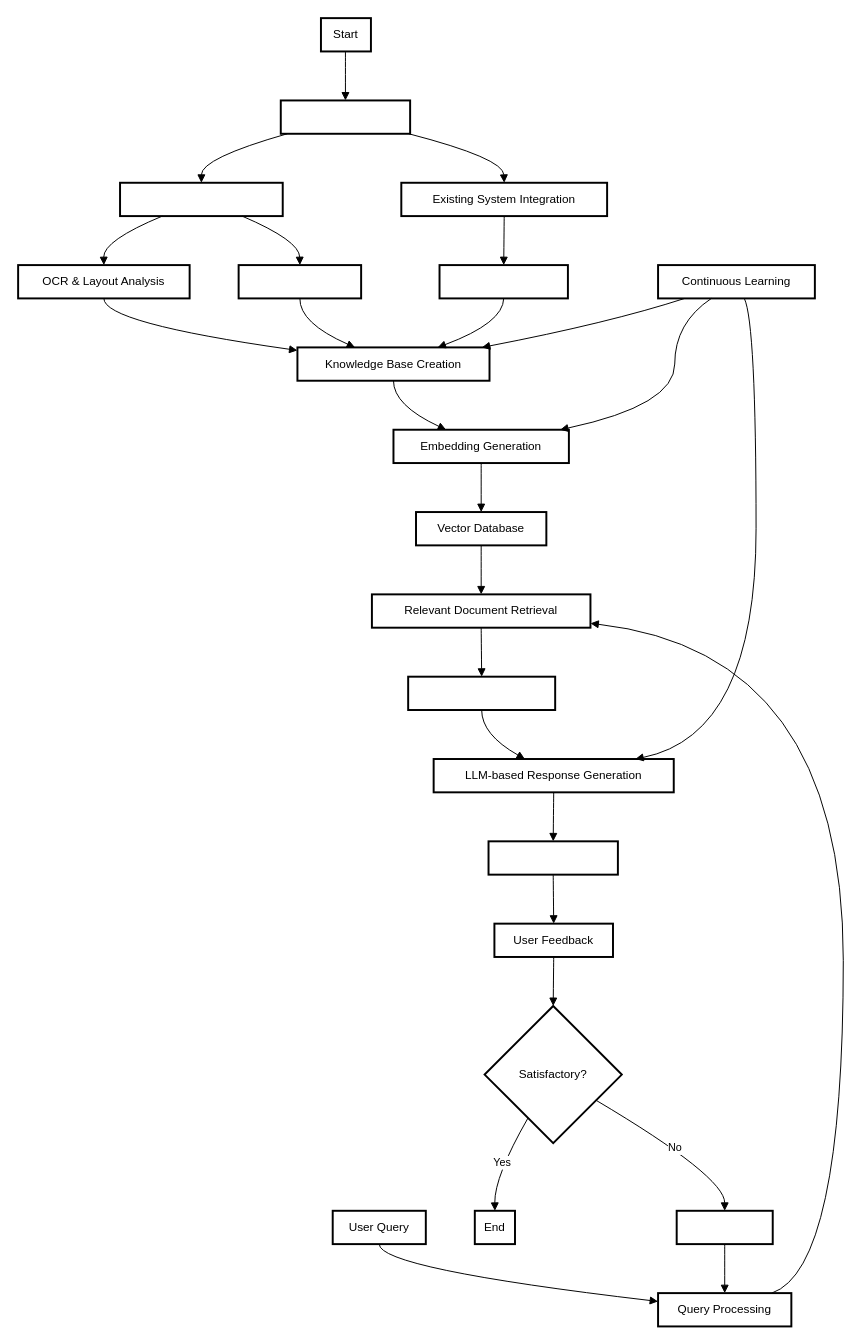
Image size: 860x1344. Some labels were removed from this diagram. Each missing label, with the centre of its shape:
Answer Delivery: the point at 552,857
API Connections: the point at 503,281
Context Formation: the point at 481,692
Data Integration: the point at 345,116
Document Processing: the point at 201,199
Refinement: the point at 724,1227
Text Extraction: the point at 299,281
